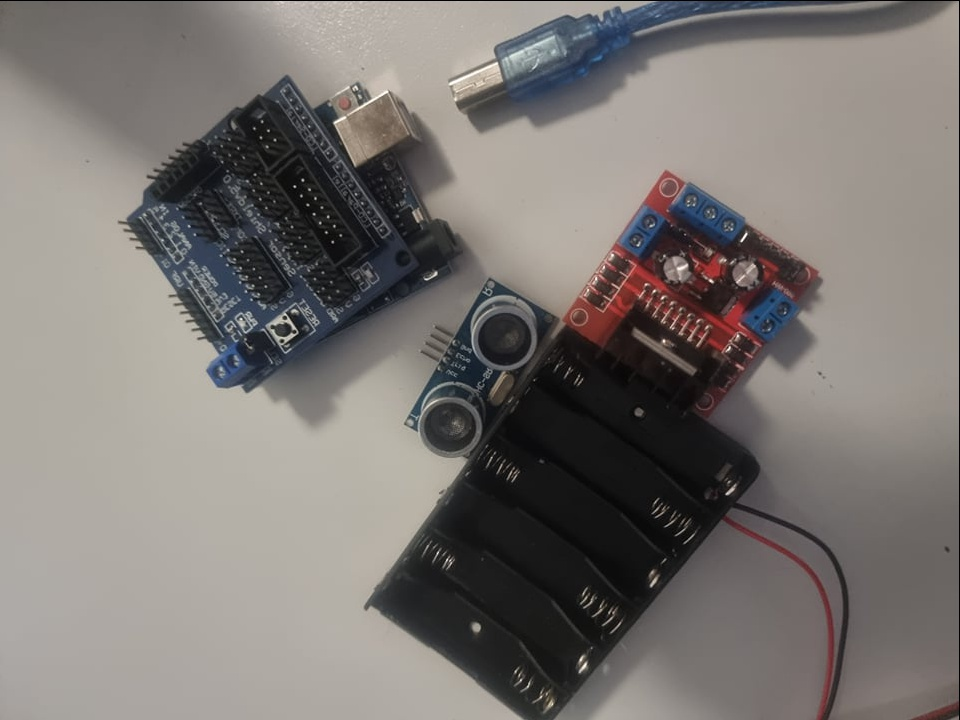5V EXPANSION: (115, 68, 340, 393)
BATTERY BOX: (367, 380, 768, 719)
MOTOR: (564, 162, 823, 423)
SENSOR: (406, 277, 554, 456)
UNO R3: (340, 30, 474, 275)
